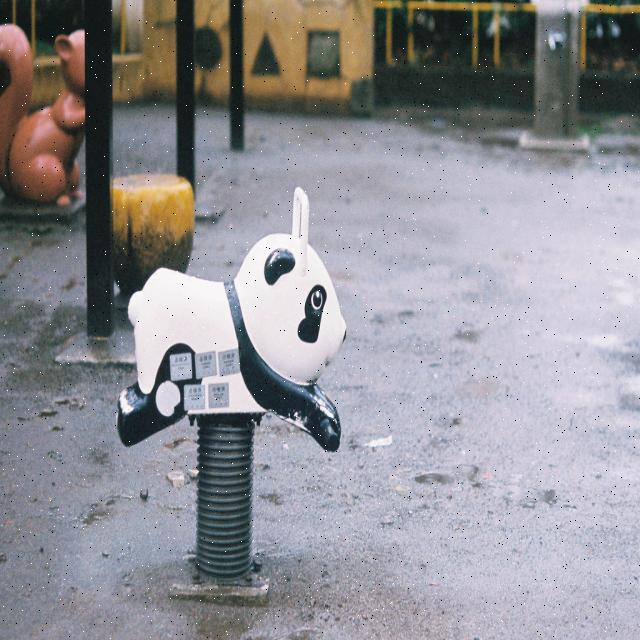panda: (120, 227, 342, 442)
